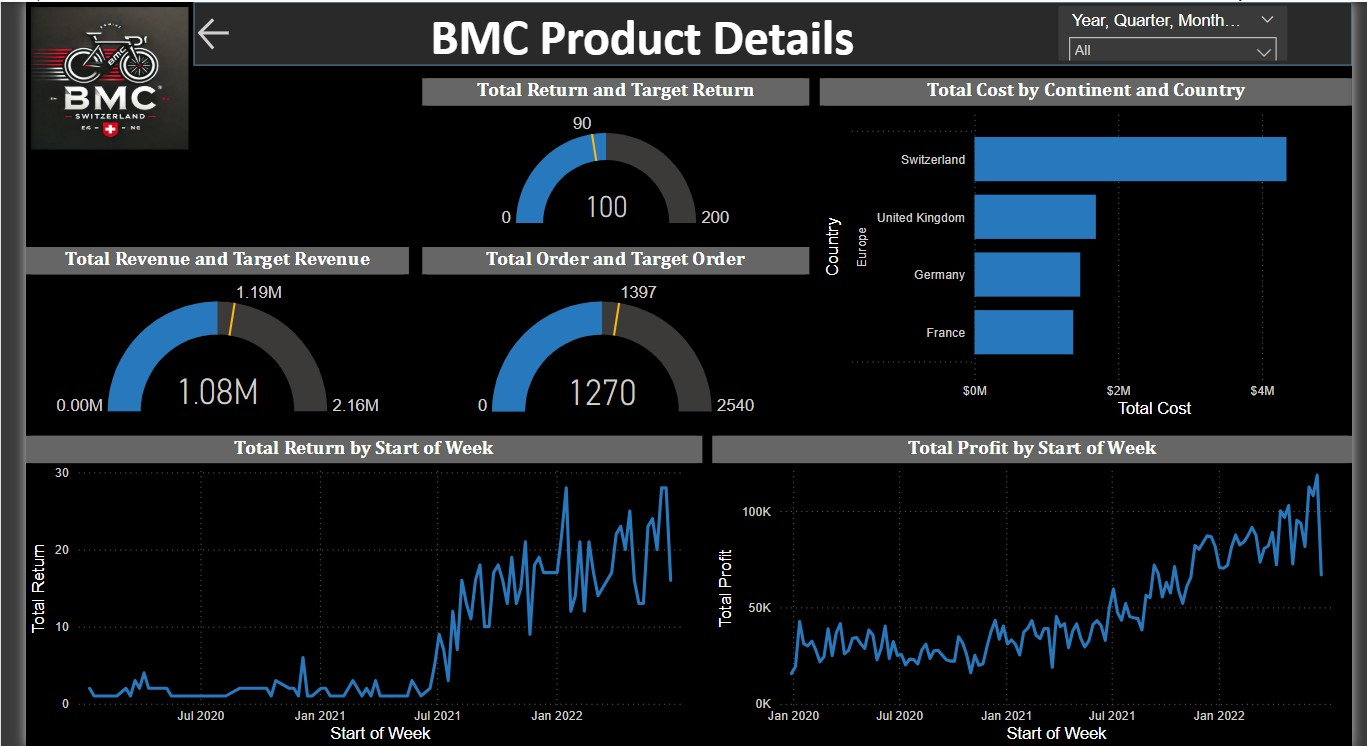

This screenshot's page, from the dashboard's own definition file:
{"tool":"powerbi","page":{"name":"Product Details","canvas":[1280,720],"ordinal":2},"visuals":[{"type":"shape","title":"BMC Switzerland","box":[161.4,0,1118.6,61.4],"z":0},{"type":"image","box":[0,0,161.4,147.1],"z":1000},{"type":"textbox","box":[205.7,0,777.1,72.9],"z":2000},{"type":"barChart","fields":{"Category":["BMCS_Territories_DIM.Continent","BMCS_Territories_DIM.Country","BMCS_Territories_DIM.Region"],"Y":["KPI Home.Total Cost"]},"box":[766.7,73.2,513.6,332.5],"z":3000},{"type":"lineChart","fields":{"Y":["KPI Home.Total Return"],"Category":["BMCS_Calendar_DIM.Start of Week"]},"box":[0,418.1,652.5,301.5],"z":4000},{"type":"lineChart","fields":{"Y":["KPI Home.Total Profit"],"Category":["BMCS_Calendar_DIM.Start of Week"]},"box":[662.5,418.1,617.8,301.5],"z":5000},{"type":"gauge","fields":{"Y":["KPI Home.Total Order"],"TargetValue":["KPI Home.Target Order"]},"box":[382.1,236.9,373.4,168.7],"z":6000},{"type":"gauge","fields":{"Y":["KPI Home.Total Return"],"TargetValue":["KPI Home.Target Return"]},"box":[382.1,73.2,373.4,150.1],"z":7000},{"type":"gauge","fields":{"Y":["KPI Home.Total Revenue"],"TargetValue":["KPI Home.Target Revenue"]},"box":[0,236.9,369.7,168.7],"z":8000},{"type":"actionButton","box":[161.5,10.4,99.3,40],"z":9000},{"type":"slicer","fields":{"Values":["BMCS_Calendar_DIM.Date.Variation.Date Hierarchy.Year","BMCS_Calendar_DIM.Date.Variation.Date Hierarchy.Quarter","BMCS_Calendar_DIM.Date.Variation.Date Hierarchy.Month","BMCS_Calendar_DIM.Date.Variation.Date Hierarchy.Day"]},"box":[996.5,3.6,220.8,53.1],"z":10000}]}

Visuals, with their boxes on the page's 1280x720 design canvas (x1, y1, x2, y2). These are canvas units, not pixel positions in the 1367x746 screenshot, which may show the page scaled, cropped or inside an application window:
"BMC Switzerland" shape: region(161, 0, 1280, 61)
image: region(0, 0, 161, 147)
textbox: region(206, 0, 983, 73)
barChart - BMCS_Territories_DIM.Continent x BMCS_Territories_DIM.Country: region(767, 73, 1280, 406)
lineChart - KPI Home.Total Return x BMCS_Calendar_DIM.Start of Week: region(0, 418, 652, 720)
lineChart - KPI Home.Total Profit x BMCS_Calendar_DIM.Start of Week: region(662, 418, 1280, 720)
gauge - KPI Home.Total Order x KPI Home.Target Order: region(382, 237, 756, 406)
gauge - KPI Home.Total Return x KPI Home.Target Return: region(382, 73, 756, 223)
gauge - KPI Home.Total Revenue x KPI Home.Target Revenue: region(0, 237, 370, 406)
actionButton: region(162, 10, 261, 50)
slicer - BMCS_Calendar_DIM.Date.Variation.Date Hierarchy.Year x BMCS_Calendar_DIM.Date.Variation.Date Hierarchy.Quarter: region(996, 4, 1217, 57)
